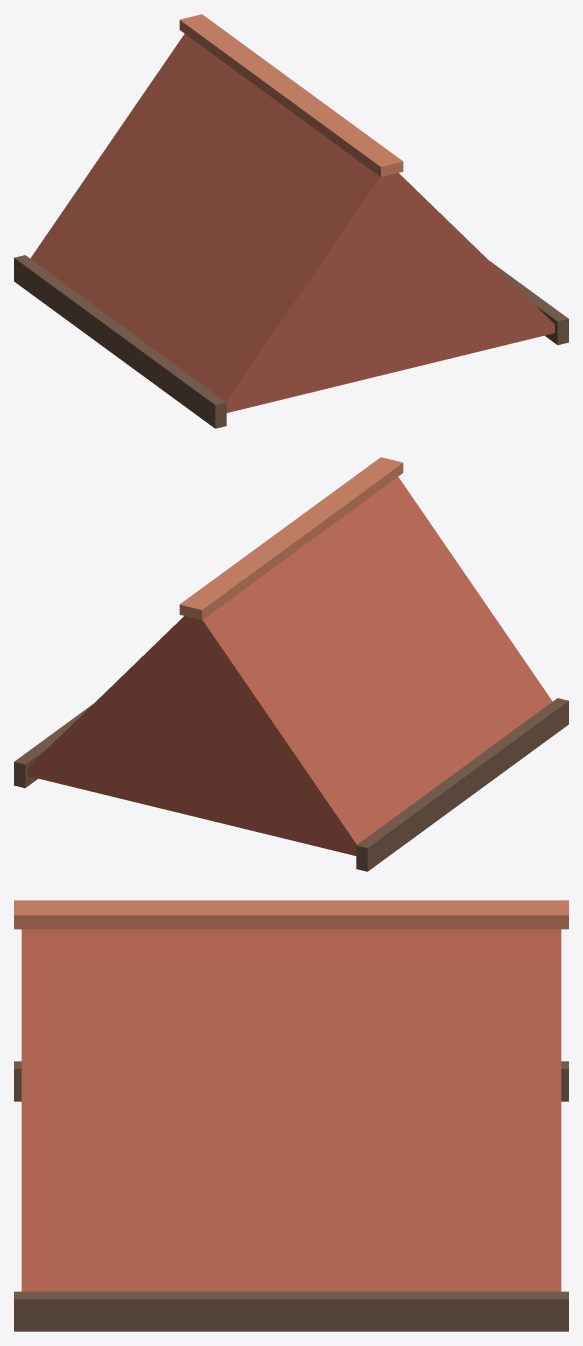
Rendered from roof.glb.
The picture shows the model from 3 angles, top to bottom: view 1: azimuth 30°, elevation 25°; view 2: azimuth 150°, elevation 25°; view 3: azimuth 270°, elevation 25°; orthographic projection. The views are drawn at different scales.
Parts seen in each view (by area): view 1: Modular gable, Eave left, Ridge cap, Eave right; view 2: Modular gable, Eave left, Ridge cap, Eave right; view 3: Modular gable, Eave right, Ridge cap, Eave left.
Boxes of the visible parts, bbox=[...] form: Modular gable: bbox=[30, 34, 554, 412]; Eave left: bbox=[14, 255, 226, 428]; Ridge cap: bbox=[179, 14, 403, 176]; Eave right: bbox=[489, 260, 568, 344]; Modular gable: bbox=[28, 477, 552, 855]; Eave left: bbox=[356, 698, 568, 871]; Ridge cap: bbox=[179, 457, 403, 619]; Eave right: bbox=[14, 703, 93, 787]; Modular gable: bbox=[21, 929, 561, 1291]; Eave right: bbox=[14, 1291, 568, 1331]; Ridge cap: bbox=[14, 900, 568, 929]; Eave left: bbox=[14, 1061, 568, 1101].
Bounding box in the file's own units: 1.09 × 0.655 × 1.08.
